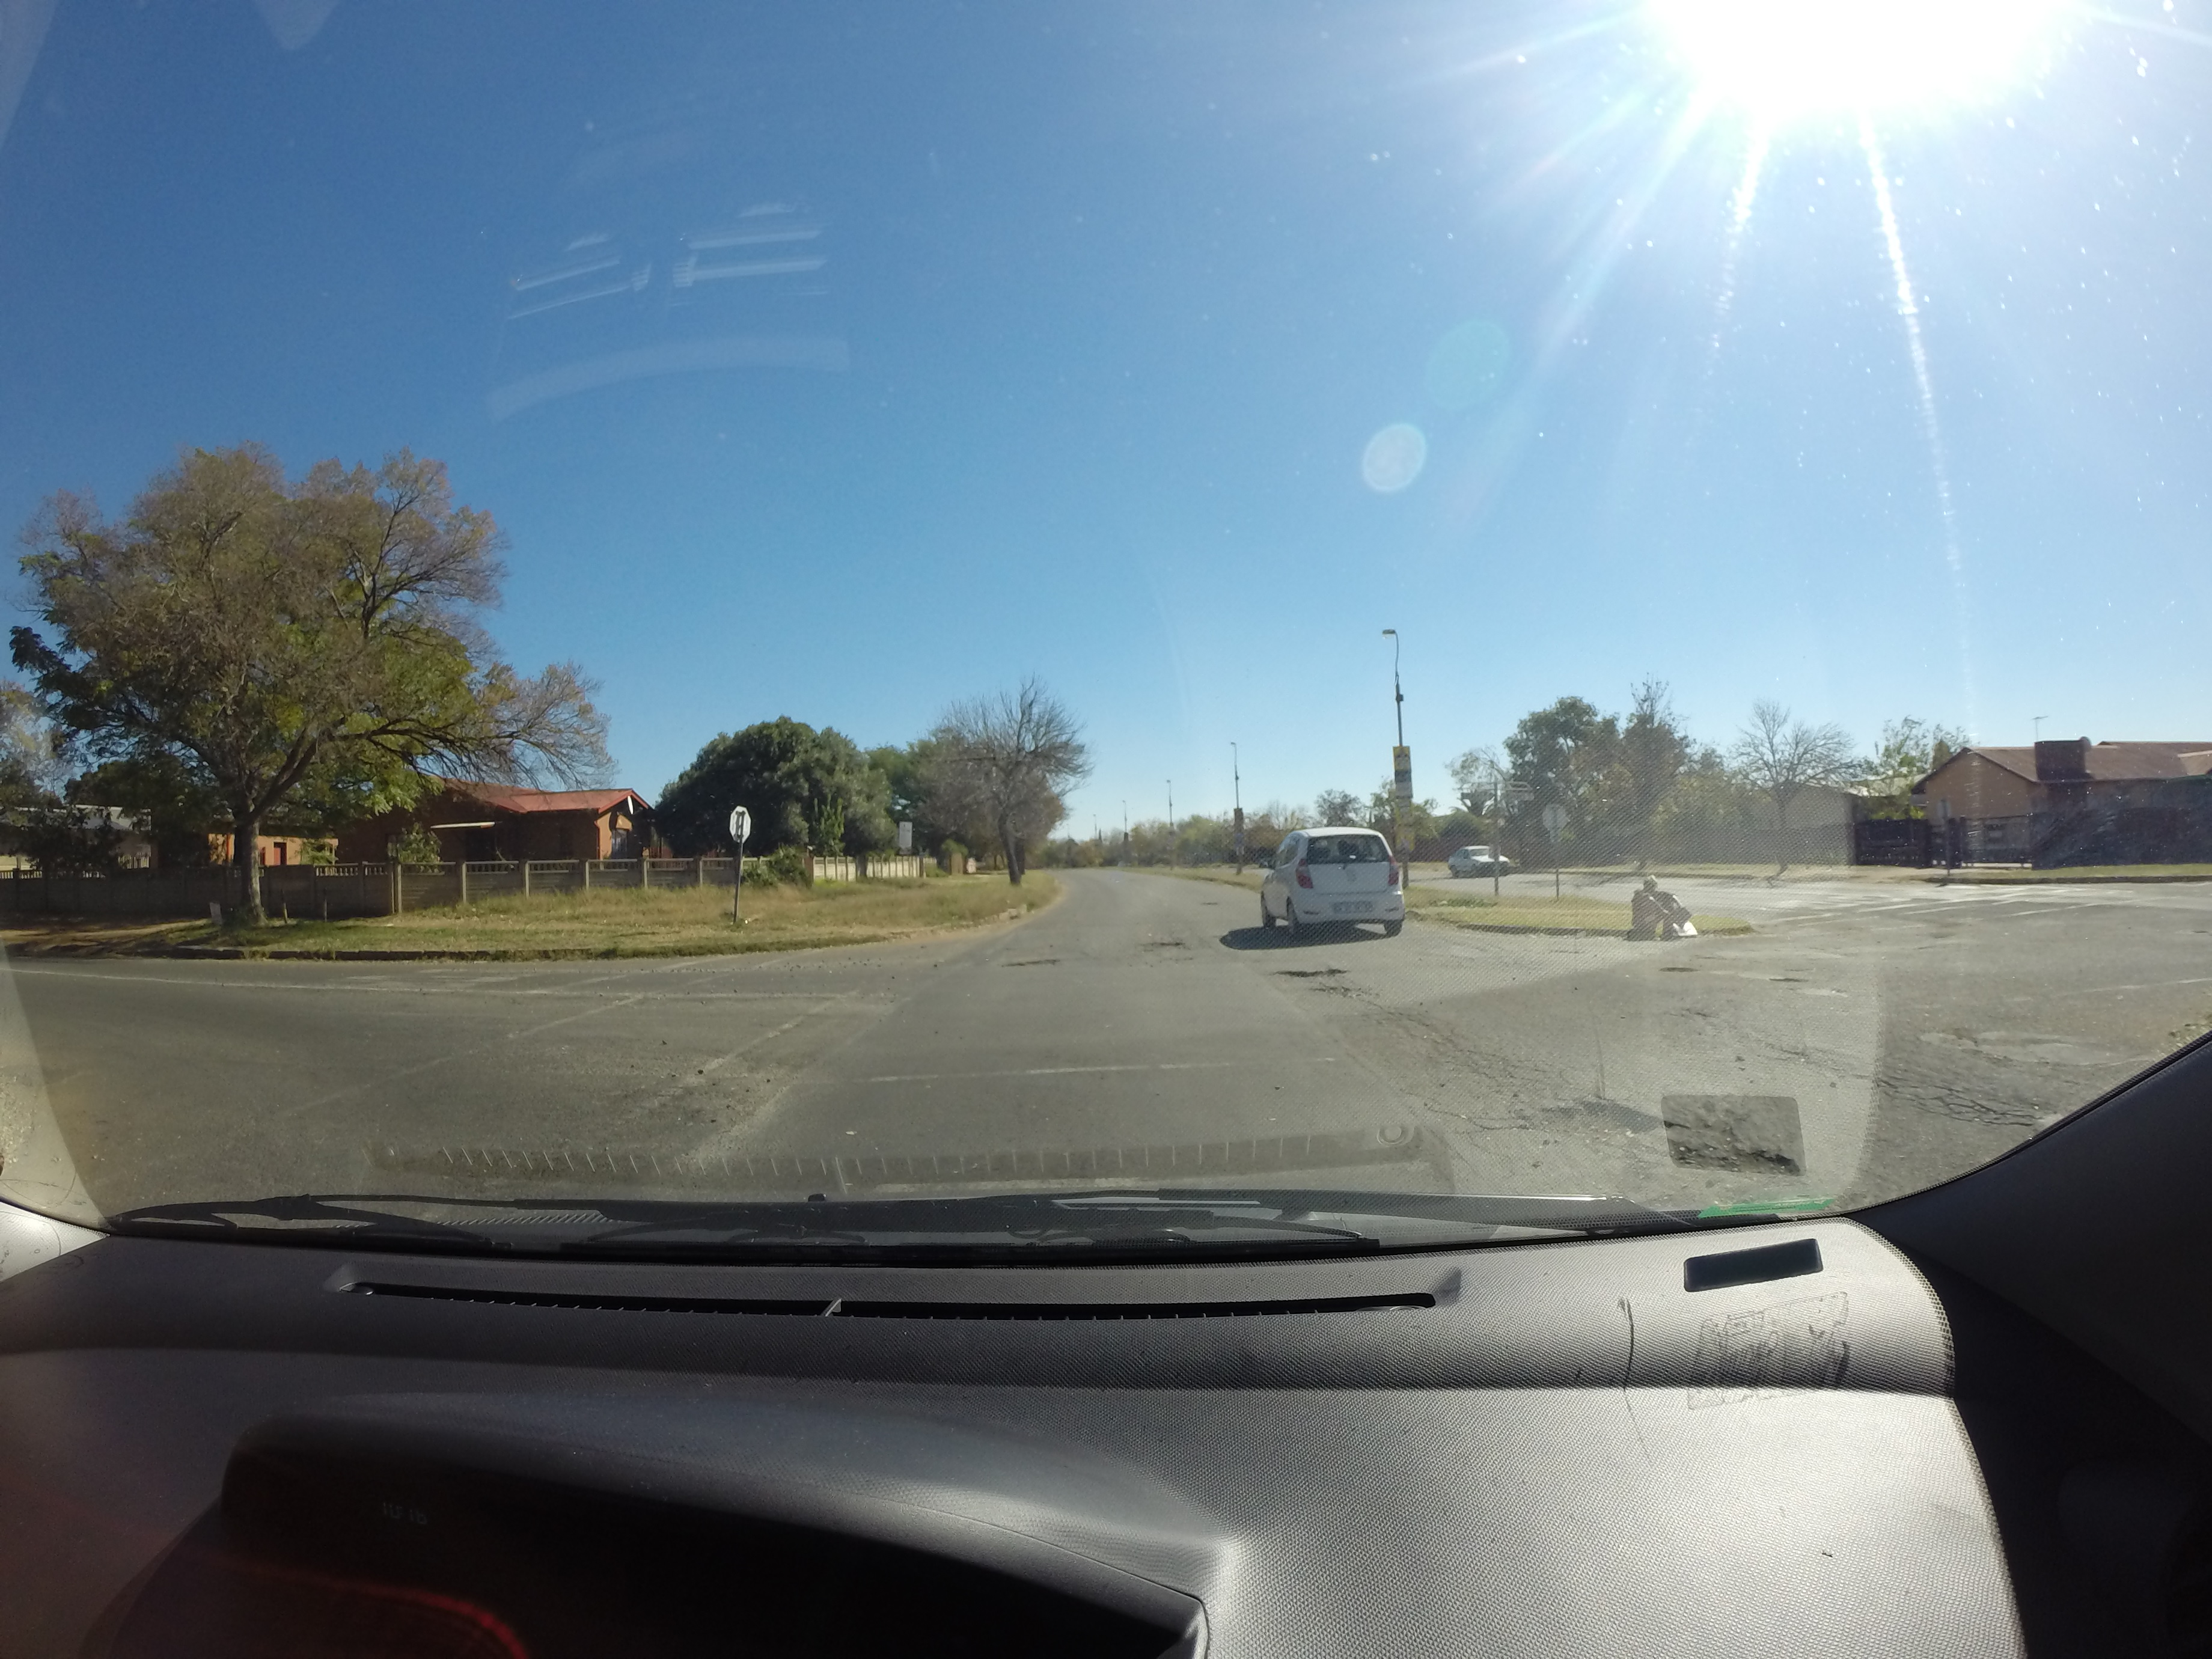pothole: (1402, 1014, 1806, 1190)
